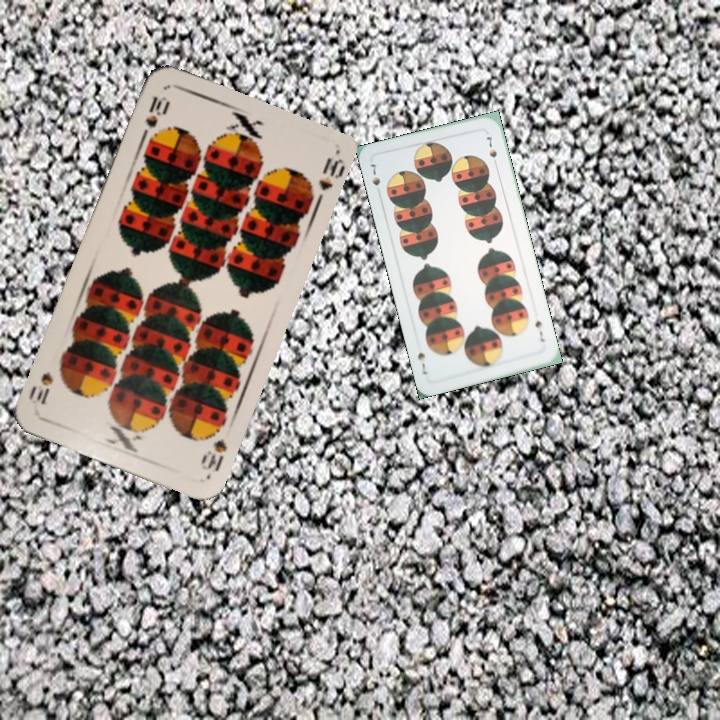S10: (137, 92, 170, 142), (197, 435, 230, 480)
S7: (366, 160, 383, 189), (531, 317, 547, 344)
